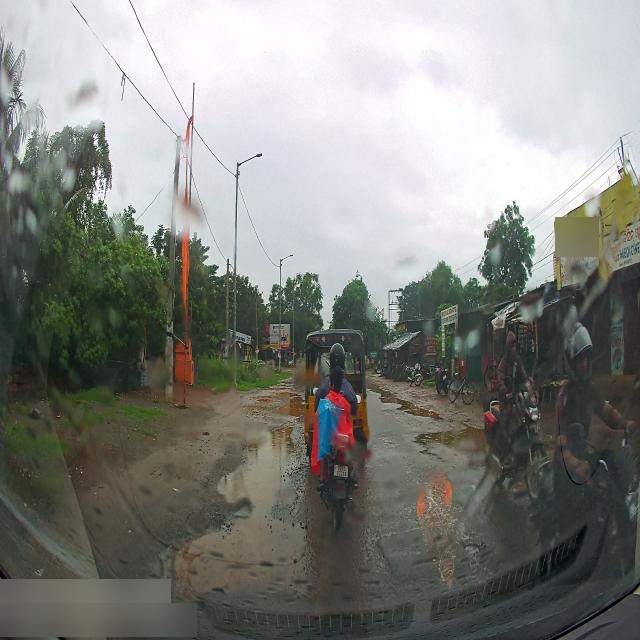pothole: (164, 520, 312, 604), (210, 430, 306, 510), (416, 429, 486, 456), (252, 394, 304, 424), (387, 402, 444, 423), (367, 379, 388, 399), (462, 545, 483, 561)
